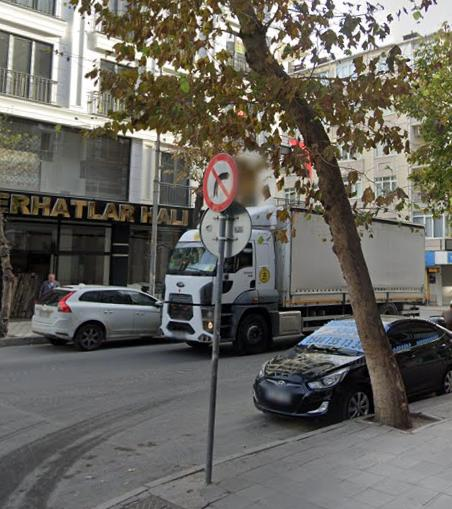rightturnsareforbidden: (194, 148, 247, 214)
